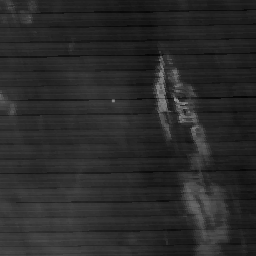Target: (110, 97, 116, 104)
